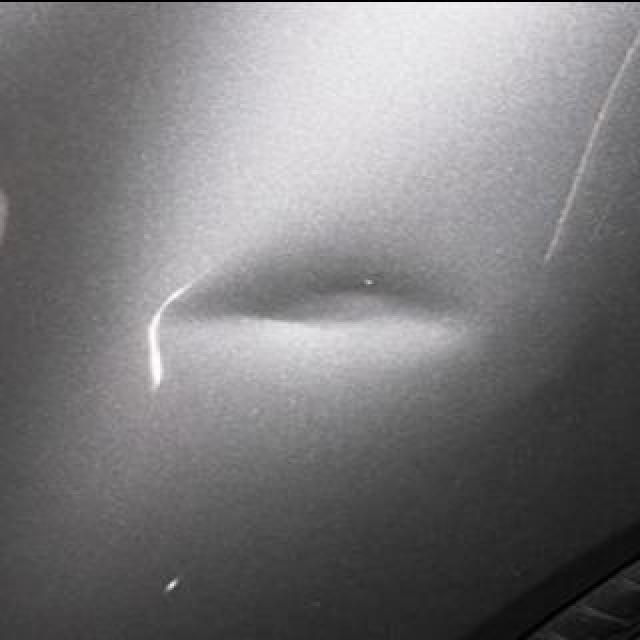dent: (136, 255, 490, 357)
